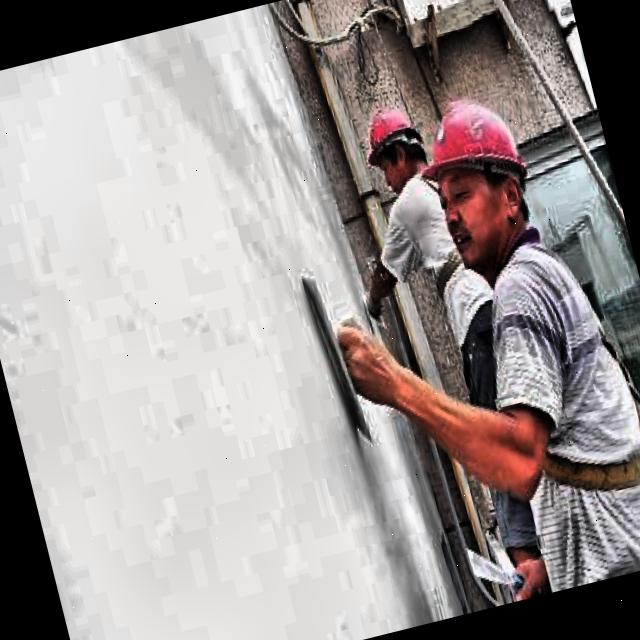helmet: (401, 77, 557, 288), (350, 94, 437, 206)
